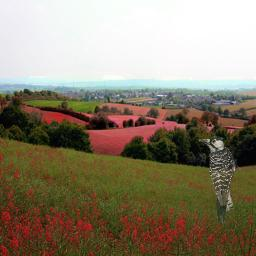Woodpecker: (198, 136, 242, 225)
